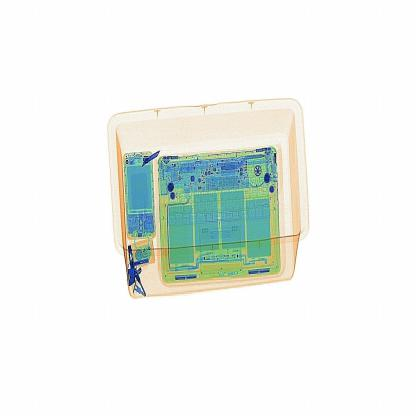scissors: (136, 143, 162, 170)
